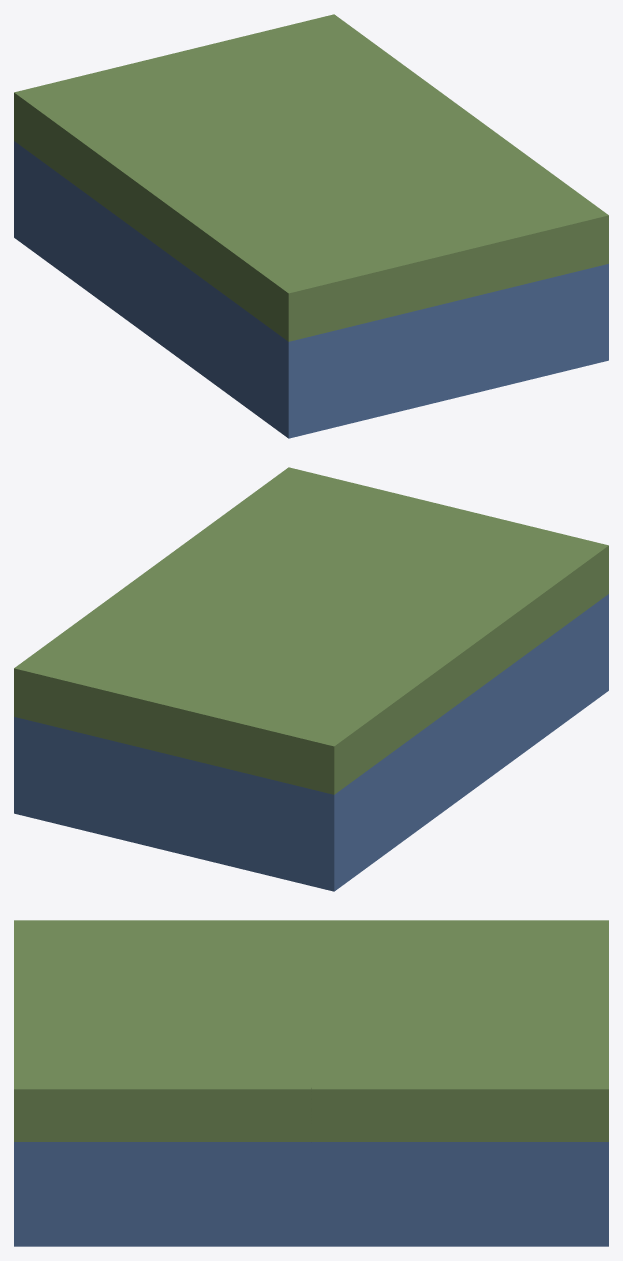
Rendered from quad_28.glb.
The picture shows the model from 3 angles, top to bottom: view 1: azimuth 30°, elevation 25°; view 2: azimuth 150°, elevation 25°; view 3: azimuth 270°, elevation 25°; orthographic projection. The views are drawn at different scales.
Parts seen in each view (by area): view 1: quad_28; view 2: quad_28; view 3: quad_28.
Boxes of the visible parts, bbox=[...] form: quad_28: bbox=[14, 14, 608, 438]; quad_28: bbox=[14, 467, 608, 891]; quad_28: bbox=[14, 920, 608, 1246].
Size of the model in its own units: 0.577 by 0.25 by 0.8571.
